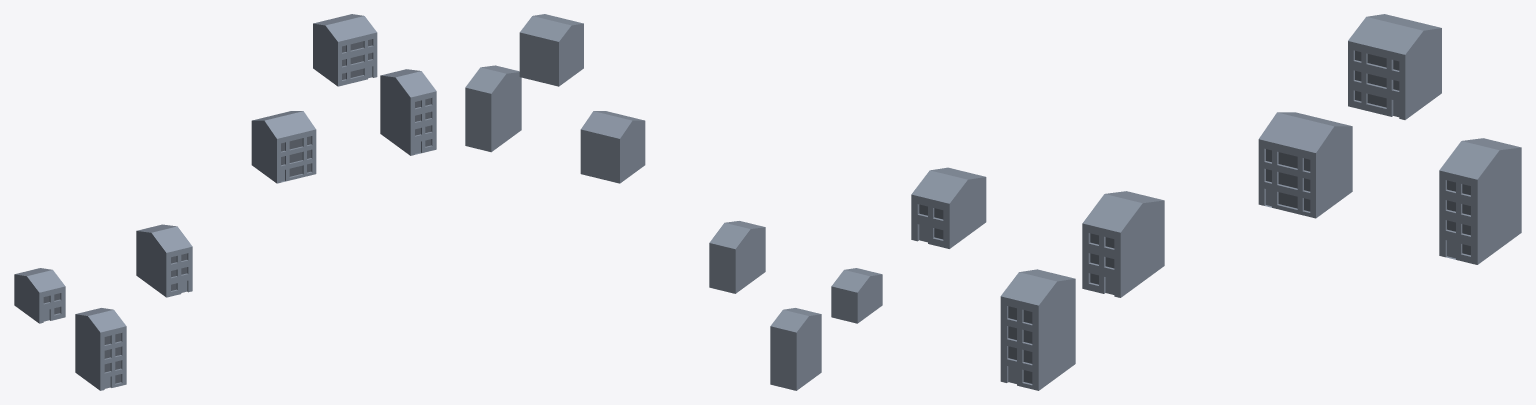
The model's file is BinaGrup8.gltf.
3 views of the same model, side by side, from view 1: azimuth 30°, elevation 25°; view 2: azimuth 150°, elevation 25°; view 3: azimuth 330°, elevation 25° (orthographic). The views are drawn at different scales.
Visible parts, largest first — view 1: Building_067.011, Building_059.011, Building_053.011, Building_034.011, Building_040.011, Building_026.011, Building_053.012, Building_059.012, Building_034.012; view 2: Building_067.011, Building_053.011, Building_059.011, Building_034.011, Building_040.011, Building_026.011; view 3: Building_067.011, Building_059.011, Building_053.011, Building_034.011, Building_040.011, Building_026.011, Building_053.012, Building_059.012, Building_034.012, Building_067.012.
Part boxes in pixels (<box>): Building_067.011: <box>380,69,436,155</box>; Building_059.011: <box>313,14,377,86</box>; Building_053.011: <box>251,111,316,183</box>; Building_034.011: <box>75,308,126,390</box>; Building_040.011: <box>136,224,192,297</box>; Building_026.011: <box>14,268,65,323</box>; Building_053.012: <box>281,136,311,176</box>; Building_059.012: <box>342,39,372,79</box>; Building_034.012: <box>104,333,121,383</box>; Building_067.011: <box>465,65,521,152</box>; Building_053.011: <box>580,111,645,183</box>; Building_059.011: <box>519,14,583,86</box>; Building_034.011: <box>770,308,821,390</box>; Building_040.011: <box>709,221,765,293</box>; Building_026.011: <box>831,268,882,323</box>; Building_067.011: <box>1439,138,1521,264</box>; Building_059.011: <box>1348,14,1441,119</box>; Building_053.011: <box>1258,112,1352,218</box>; Building_034.011: <box>1000,269,1075,390</box>; Building_040.011: <box>1082,191,1164,297</box>; Building_026.011: <box>911,167,986,248</box>; Building_053.012: <box>1266,149,1310,211</box>; Building_059.012: <box>1355,50,1399,107</box>; Building_034.012: <box>1008,306,1032,383</box>; Building_067.012: <box>1447,180,1470,255</box>.
Bounding box in the file's own units: 0.4891 × 0.3554 × 0.0652.
